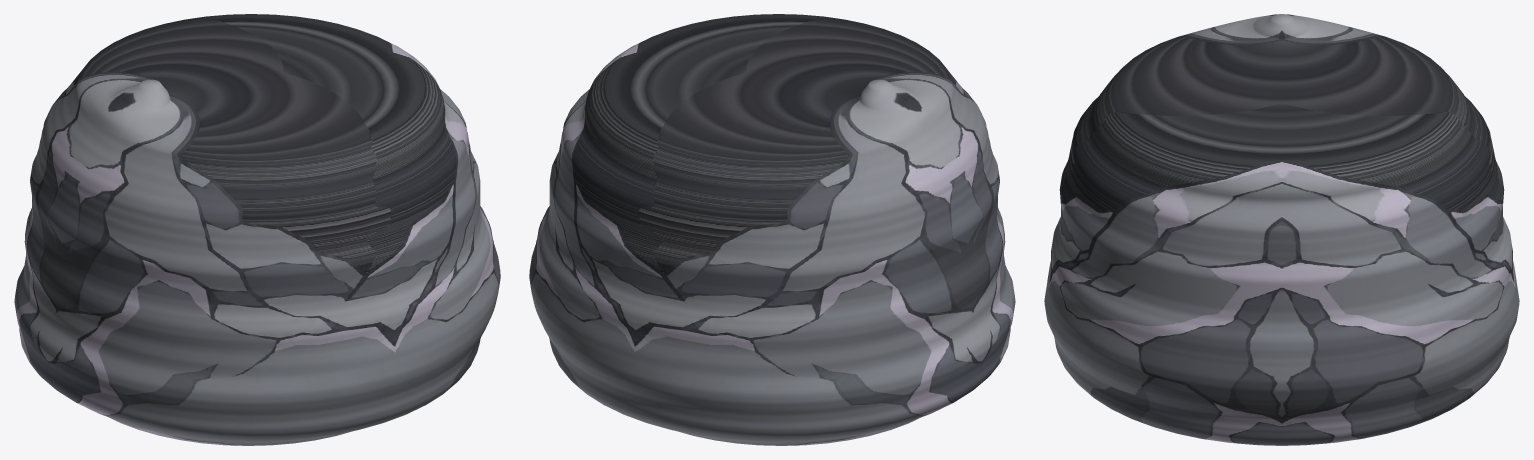
The model's file is broken_crown_rock.glb.
3 views of the same model, side by side, from view 1: azimuth 30°, elevation 25°; view 2: azimuth 150°, elevation 25°; view 3: azimuth 270°, elevation 25° (orthographic).
Parts seen in each view (by area): view 1: broken_crown_rock; view 2: broken_crown_rock; view 3: broken_crown_rock.
Part boxes in pixels (box(x1,y1,x2,y2)): broken_crown_rock: box(14, 14, 500, 445); broken_crown_rock: box(529, 14, 1015, 445); broken_crown_rock: box(1044, 14, 1519, 445).
Size of the model in its own units: 0.9981 by 0.7659 by 0.9864.
Materials: 1 (1 with a texture image).
